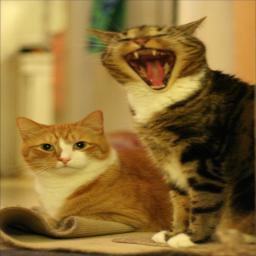catnose: (56, 156, 74, 165), (134, 37, 150, 47)
